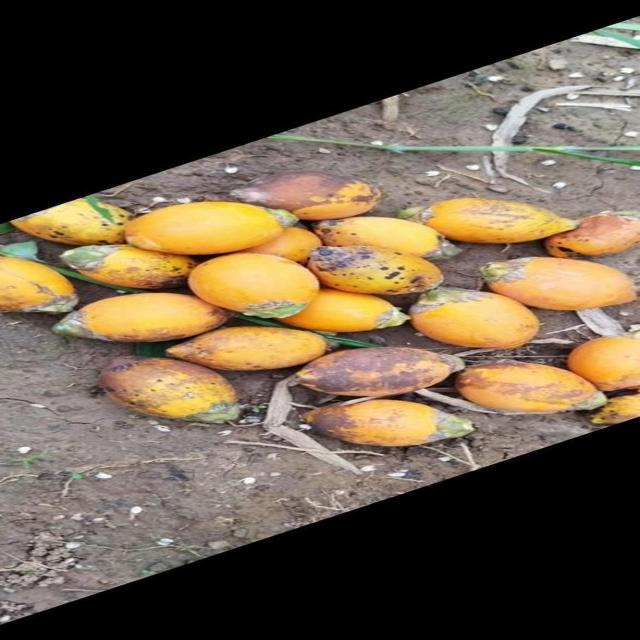good: (122, 201, 282, 258), (99, 360, 239, 424), (307, 398, 476, 450), (60, 294, 232, 345), (298, 347, 463, 398), (485, 258, 636, 312), (410, 289, 540, 351), (187, 254, 321, 314), (456, 364, 605, 415), (422, 198, 580, 246), (170, 326, 331, 372), (307, 246, 443, 300), (231, 174, 382, 222), (56, 244, 204, 292), (271, 290, 407, 334), (12, 198, 134, 247), (310, 217, 445, 259), (0, 256, 81, 314), (567, 337, 639, 400), (544, 214, 639, 261)
